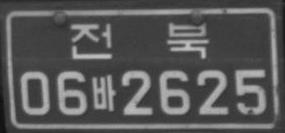0: (20, 70, 50, 115)
2: (121, 69, 153, 115), (196, 69, 228, 115)
5: (235, 69, 267, 115)
6: (56, 70, 87, 116), (159, 69, 190, 115)
바: (91, 74, 116, 111)
전북_D: (70, 21, 209, 58)
